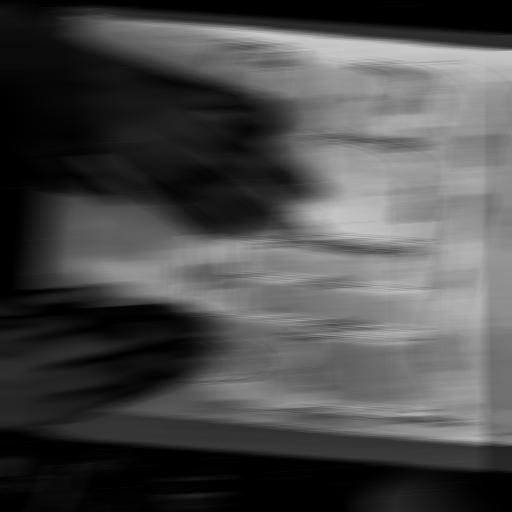bottom_left: (22, 401, 48, 409)
bottom_right: (65, 12, 92, 19)
bus: (156, 22, 504, 438)
